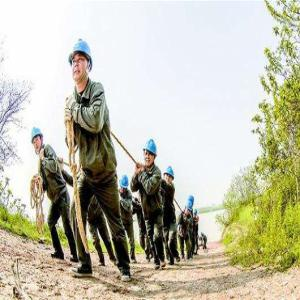blue: (70, 37, 93, 86), (32, 126, 45, 154), (144, 140, 157, 168), (120, 174, 130, 198), (164, 164, 174, 187), (185, 201, 193, 218)
